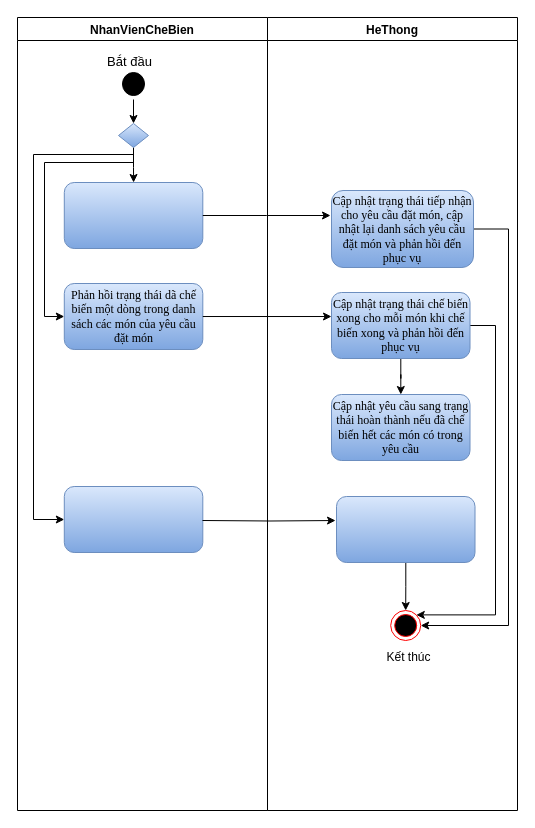
The diagram is 535 pixels wide and 828 high, and some of its shapes have lost their labels. The centre of each missing label's shape, as x and y in pixels:
Cập nhật sang trạng thái không tiếp nhận và phản hồi đến phục vụ: pixel 405 529
Phản hồi trạng khong tiếp nhận kèm theo lý do không tiếp nhận: pixel 133 519
Phản hồi trạng thái tiếp nhận cho yêu cầu đặt món: pixel 133 215
